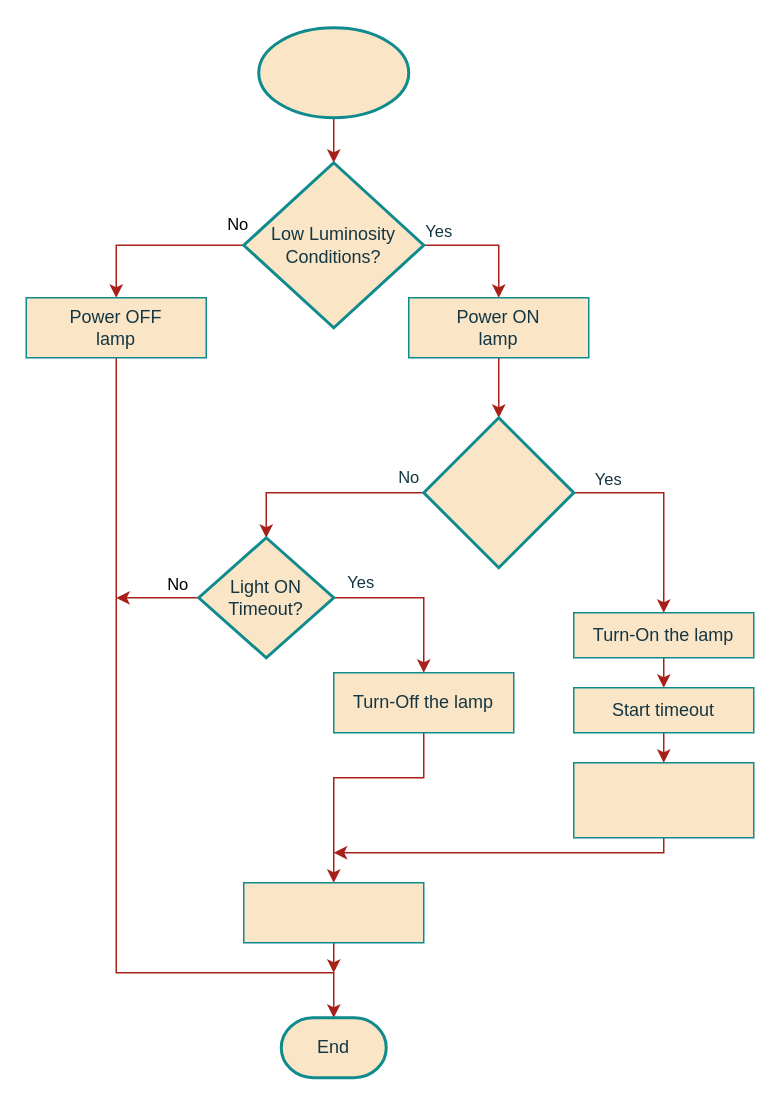
Image size: 780x1104. Some labels were removed from this diagram. The shapes that lost their labels are listed below. From the top down, each one's centre as x and y in pixels, then its label:
At point (333, 72): "Sample Sensors".
At point (498, 492): "Motion detected?".
At point (663, 799): "Request Base Station to turn ON neighbor lamps".
At point (333, 912): "Send data to remote server".
